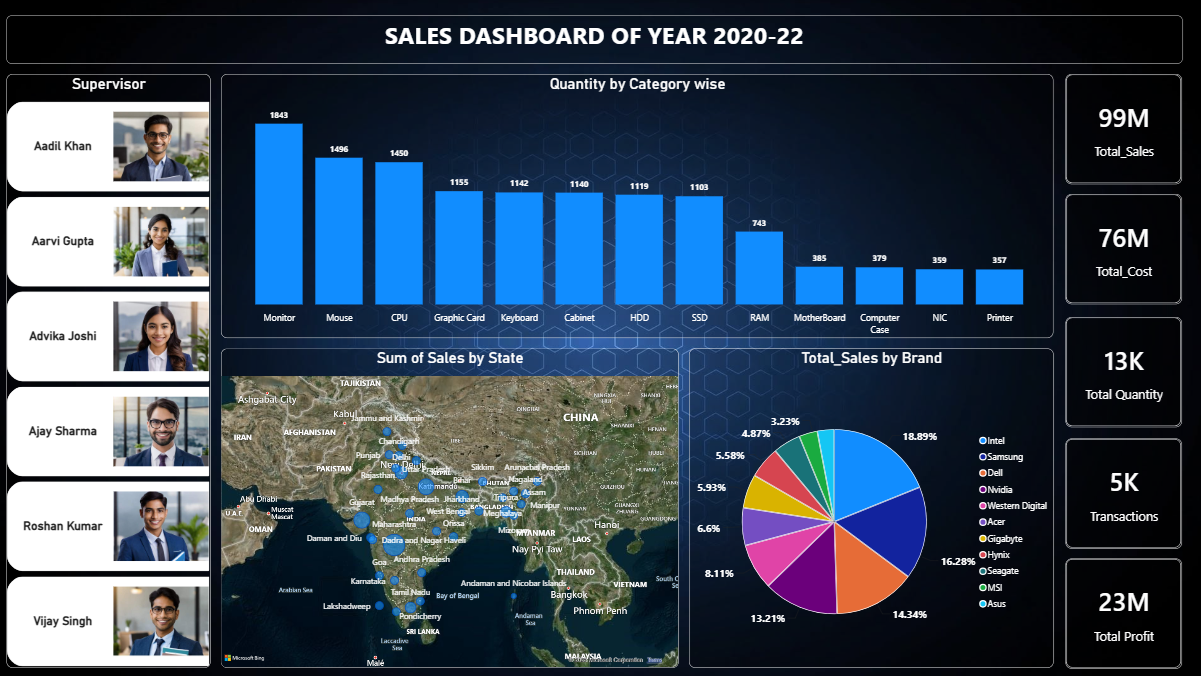

What the dashboard file says about the page in this screenshot:
{"tool":"powerbi","page":{"name":"Page 1","canvas":[1920,1080],"ordinal":0},"visuals":[{"type":"textbox","box":[16.7,26.2,1870.6,76.3],"z":0},{"type":"cardVisual","fields":{"Data":["Sum(Sales_Data.Total_Sales)"]},"box":[1701.2,119.3,185,175],"z":1000},{"type":"cardVisual","fields":{"Data":["Sales_Data.Total Profit"]},"box":[1701.2,889.9,185,175],"z":2000},{"type":"cardVisual","fields":{"Data":["CountNonNull(Sales_Data.Order_Number)"]},"box":[1701.2,699.1,185,175],"z":3000},{"type":"cardVisual","fields":{"Data":["Sum(Sales_Data.Quantity)"]},"box":[1701.2,505.8,185,175],"z":4000},{"type":"cardVisual","fields":{"Data":["Sum(Sales_Data.Total_Cost)"]},"box":[1701.2,310.2,185,175],"z":5000},{"type":"clusteredColumnChart","title":"Quantity by Category wise","fields":{"Category":["Sales_Data.Category"],"Y":["Sum(Sales_Data.Quantity)"]},"box":[357.9,119.3,1324.2,419.9],"z":6000},{"type":"pieChart","title":"Total_Sales by Brand","fields":{"Category":["Sales_Data.Brand"],"Y":["Sum(Sales_Data.Total_Sales)"]},"box":[1102.3,555.9,579.8,508.2],"z":7000},{"type":"map","fields":{"Category":["State_list.State"],"Size":["Sum(Sales_Data.Sales)"]},"box":[357.9,555.9,727.7,508.2],"z":8000},{"type":"advancedSlicerVisual","fields":{"Values":["Supervisor.Supervisor"]},"box":[16.7,119.3,324.5,944.8],"z":9000}]}

Visuals, with their boxes in screenshot pixels (x1, y1, x2, y2), scaled from the page's 1920x1080 canvas onto the 1201x676 screenshot:
textbox: pyautogui.locateOnScreen(10, 16, 1181, 64)
cardVisual - Sum(Sales_Data.Total_Sales): pyautogui.locateOnScreen(1064, 75, 1180, 184)
cardVisual - Sales_Data.Total Profit: pyautogui.locateOnScreen(1064, 557, 1180, 667)
cardVisual - CountNonNull(Sales_Data.Order_Number): pyautogui.locateOnScreen(1064, 438, 1180, 547)
cardVisual - Sum(Sales_Data.Quantity): pyautogui.locateOnScreen(1064, 317, 1180, 426)
cardVisual - Sum(Sales_Data.Total_Cost): pyautogui.locateOnScreen(1064, 194, 1180, 304)
"Quantity by Category wise" clusteredColumnChart: pyautogui.locateOnScreen(224, 75, 1052, 337)
"Total_Sales by Brand" pieChart: pyautogui.locateOnScreen(690, 348, 1052, 666)
map - State_list.State x Sum(Sales_Data.Sales): pyautogui.locateOnScreen(224, 348, 679, 666)
advancedSlicerVisual - Supervisor.Supervisor: pyautogui.locateOnScreen(10, 75, 213, 666)
